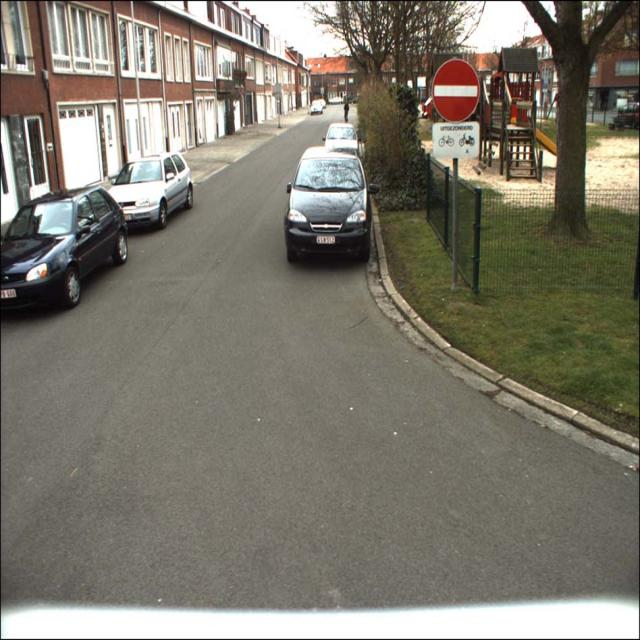girisyok: (431, 59, 480, 122)
